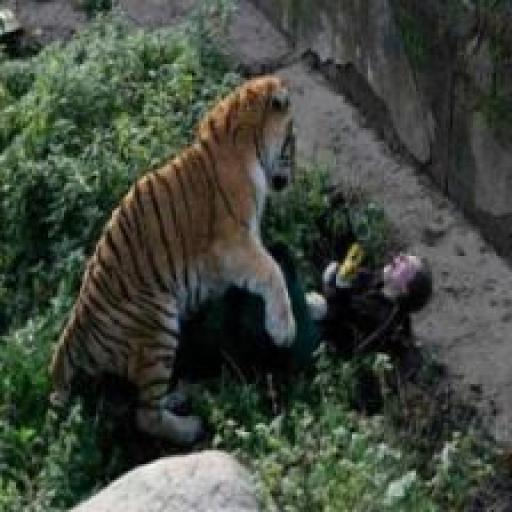Tiger: (50, 74, 320, 452)
